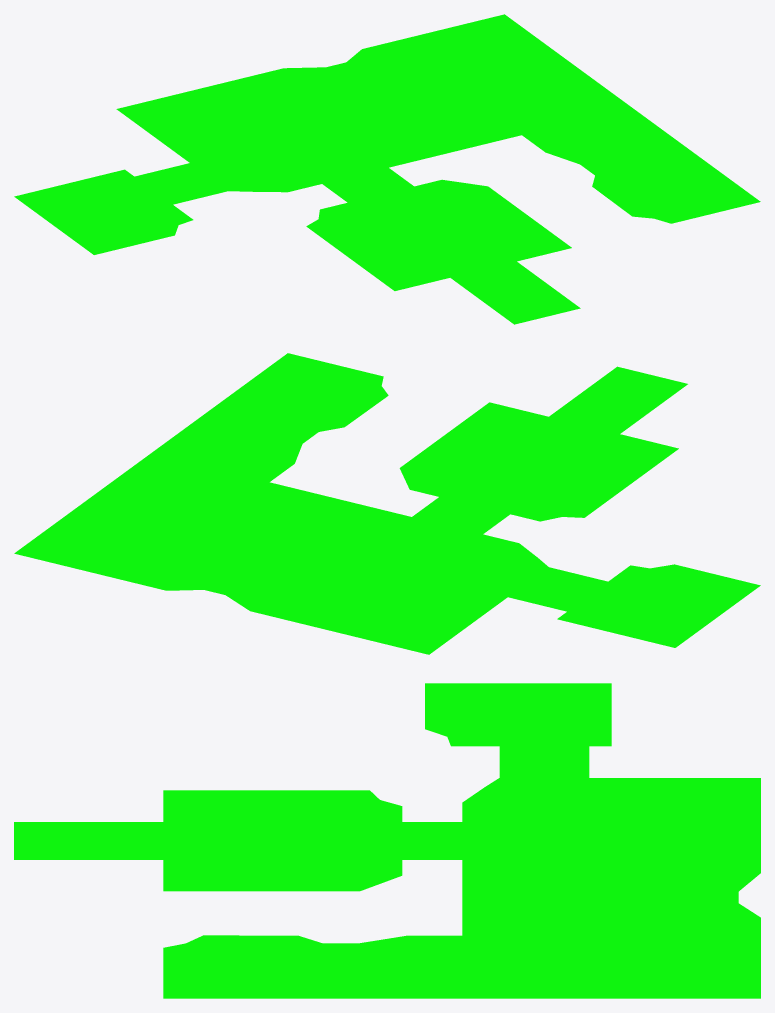
Rendered from s04b_nc2-floor.glb.
The picture shows the model from 3 angles, top to bottom: view 1: azimuth 30°, elevation 25°; view 2: azimuth 150°, elevation 25°; view 3: azimuth 270°, elevation 25°; orthographic projection. The views are drawn at different scales.
Visible parts, largest first — view 1: collision_floor-colonly; view 2: collision_floor-colonly; view 3: collision_floor-colonly.
Boxes of the visible parts, x1,y1,x2,y2 form: collision_floor-colonly: [14, 14, 760, 324]; collision_floor-colonly: [14, 353, 760, 654]; collision_floor-colonly: [14, 683, 760, 998].
Bounding box in the file's own units: 49.99 × 0 × 50.
